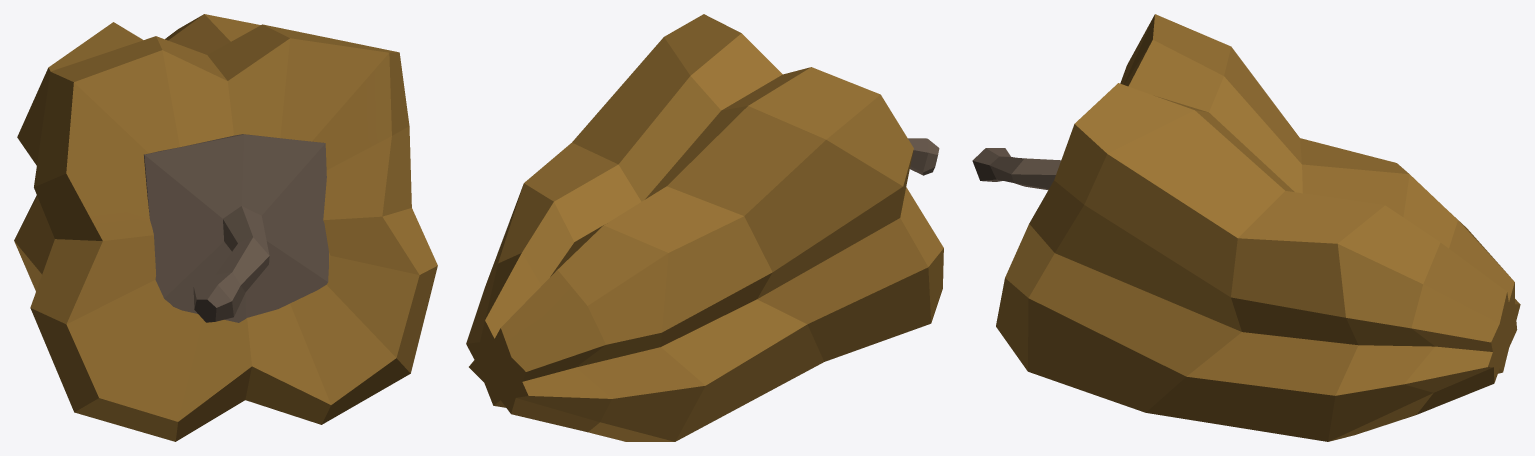
File: Pepper_Rotten.fbx
3 renders of one model, left to right at view 1: azimuth 30°, elevation 25°; view 2: azimuth 150°, elevation 25°; view 3: azimuth 270°, elevation 25°, orthographic. The views are drawn at different scales.
Parts seen in each view (by area): view 1: SM_Pepper_Rotten; view 2: SM_Pepper_Rotten; view 3: SM_Pepper_Rotten.
Boxes of the visible parts, left/top/right/bottom form: SM_Pepper_Rotten: left=14, top=14, right=437, bottom=441; SM_Pepper_Rotten: left=466, top=14, right=943, bottom=441; SM_Pepper_Rotten: left=972, top=14, right=1520, bottom=441.
Bounding box in the file's own units: 7.37 × 6.76 × 10.26.
1 material, 1 textured.
